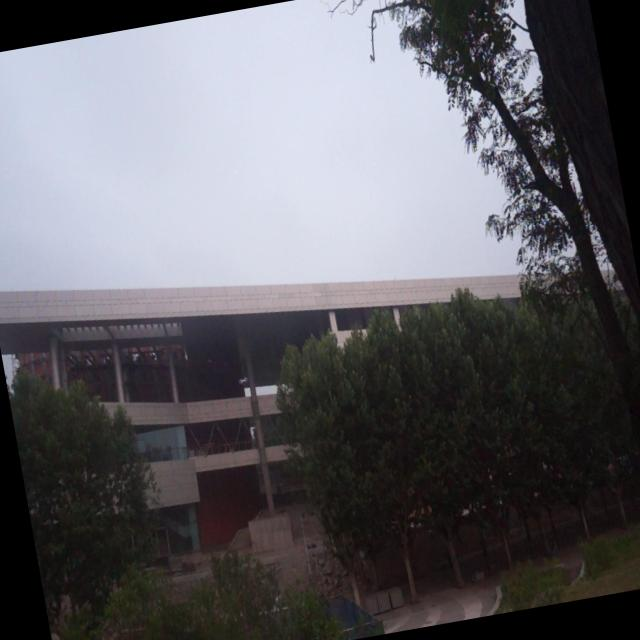drone: (236, 372, 250, 387)
